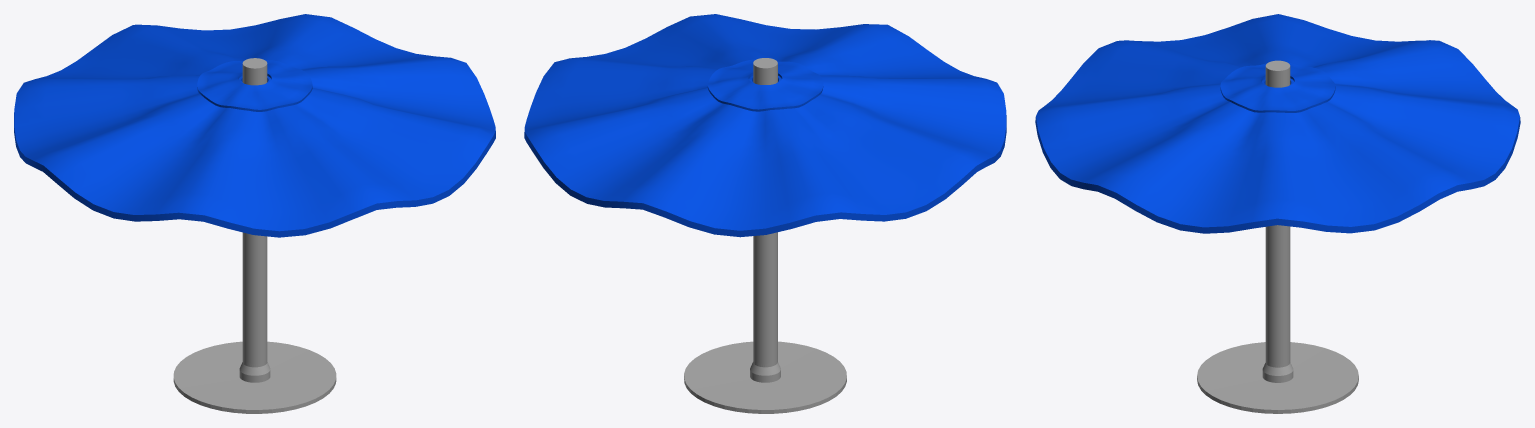
Rendered from Umbrella.fbx.
3 renders of one model, left to right at view 1: azimuth 30°, elevation 25°; view 2: azimuth 150°, elevation 25°; view 3: azimuth 270°, elevation 25°, orthographic.
Visible parts, largest first — view 1: BigCloth1; view 2: BigCloth1; view 3: BigCloth1.
Part boxes in pixels (left/top/right/bottom): BigCloth1: left=14, top=14, right=495, bottom=413; BigCloth1: left=524, top=14, right=1006, bottom=413; BigCloth1: left=1035, top=14, right=1520, bottom=413.
Bounding box in the file's own units: 20.98 × 14.97 × 20.98.
